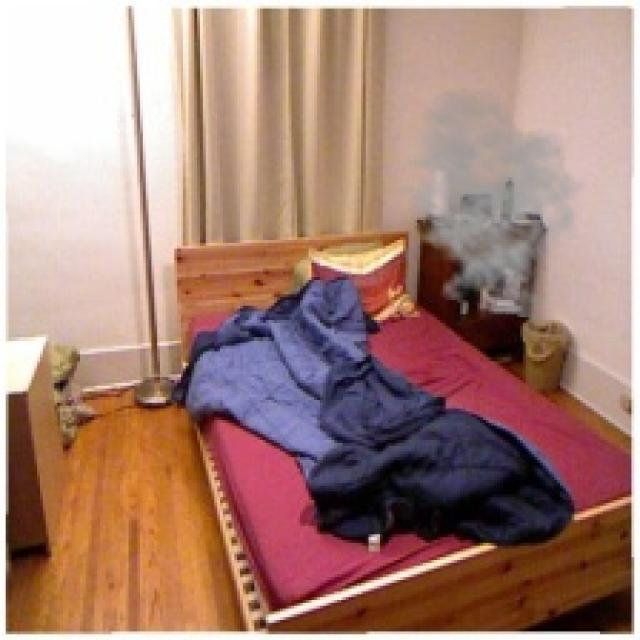Smoke: (388, 86, 588, 320)
